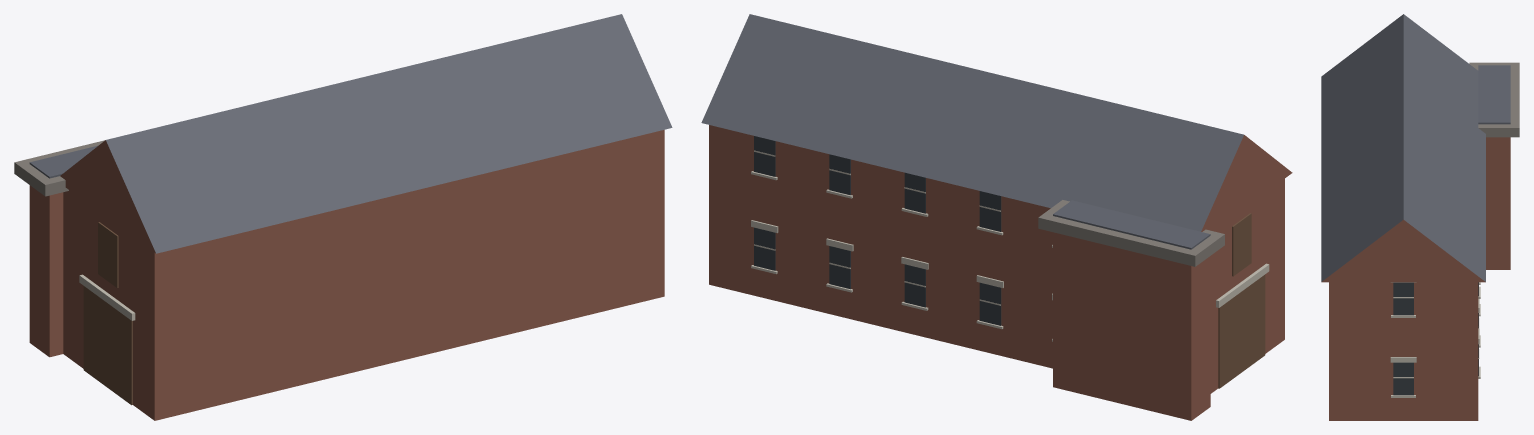
The model's file is stone_house_2035_prairie_rear_building__draft_1904.glb.
The picture shows the model from 3 angles, left to right: view 1: azimuth 30°, elevation 25°; view 2: azimuth 150°, elevation 25°; view 3: azimuth 270°, elevation 25°; orthographic projection. The views are drawn at different scales.
Parts seen in each view (by area): view 1: stone_house_2035_prairie_rear_building__draft_1904; view 2: stone_house_2035_prairie_rear_building__draft_1904; view 3: stone_house_2035_prairie_rear_building__draft_1904.
Part boxes in pixels (x1,y1,x2,y2): stone_house_2035_prairie_rear_building__draft_1904: (14, 14, 672, 420); stone_house_2035_prairie_rear_building__draft_1904: (701, 14, 1292, 420); stone_house_2035_prairie_rear_building__draft_1904: (1321, 14, 1519, 420).
Bounding box in the file's own units: 19.47 × 8.61 × 7.65.
